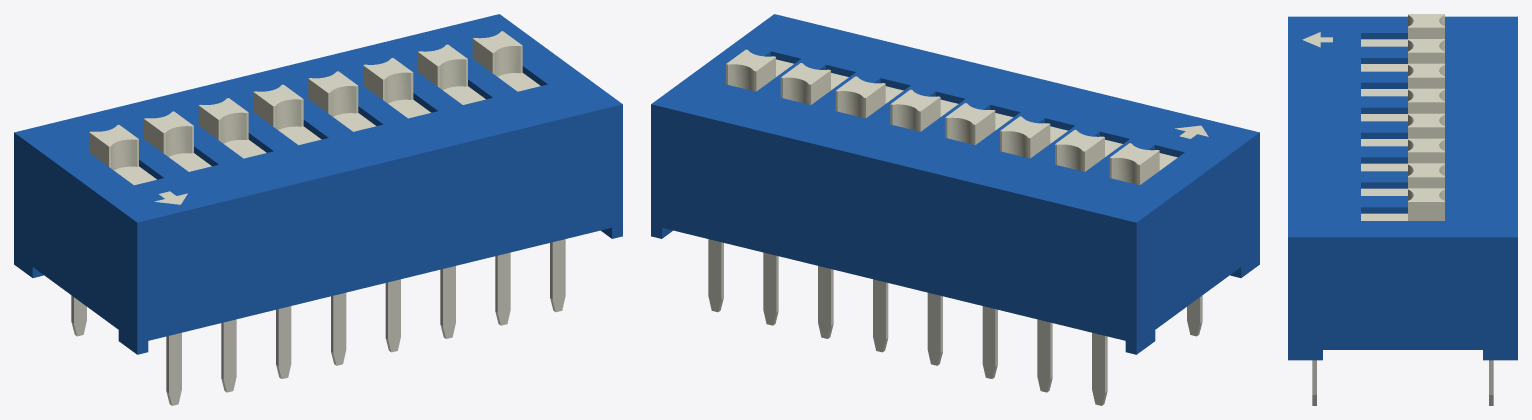
File: kc-sw_dip_spstx08_slide_9.78x22.5mm_w7.62mm_p2.54mm.glb
The picture shows the model from 3 angles, left to right: view 1: azimuth 30°, elevation 25°; view 2: azimuth 150°, elevation 25°; view 3: azimuth 270°, elevation 25°; orthographic projection. The views are drawn at different scales.
Visible parts, largest first — view 1: 0_0.16666666666666666_0.5_0, 0.75_0.75_0.6666666666666666_0, 0.6666666666666666_0.6666666666666666_0.5833333333333334_0.8; view 2: 0_0.16666666666666666_0.5_0, 0.75_0.75_0.6666666666666666_0, 0.6666666666666666_0.6666666666666666_0.5833333333333334_0.8; view 3: 0_0.16666666666666666_0.5_0, 0.75_0.75_0.6666666666666666_0, 0.6666666666666666_0.6666666666666666_0.5833333333333334_0.8.
Boxes of the visible parts, x1=… form: 0_0.16666666666666666_0.5_0: x1=14, y1=14, x2=622, y2=354; 0.75_0.75_0.6666666666666666_0: x1=89, y1=31, x2=540, y2=204; 0.6666666666666666_0.6666666666666666_0.5833333333333334_0.8: x1=71, y1=239, x2=565, y2=405; 0_0.16666666666666666_0.5_0: x1=651, y1=14, x2=1259, y2=354; 0.75_0.75_0.6666666666666666_0: x1=726, y1=49, x2=1208, y2=185; 0.6666666666666666_0.6666666666666666_0.5833333333333334_0.8: x1=708, y1=239, x2=1202, y2=405; 0_0.16666666666666666_0.5_0: x1=1288, y1=16, x2=1517, y2=360; 0.75_0.75_0.6666666666666666_0: x1=1302, y1=14, x2=1444, y2=220; 0.6666666666666666_0.6666666666666666_0.5833333333333334_0.8: x1=1312, y1=360, x2=1493, y2=405.
Size of the model in its own units: 2.25 by 0.995 by 0.99.
